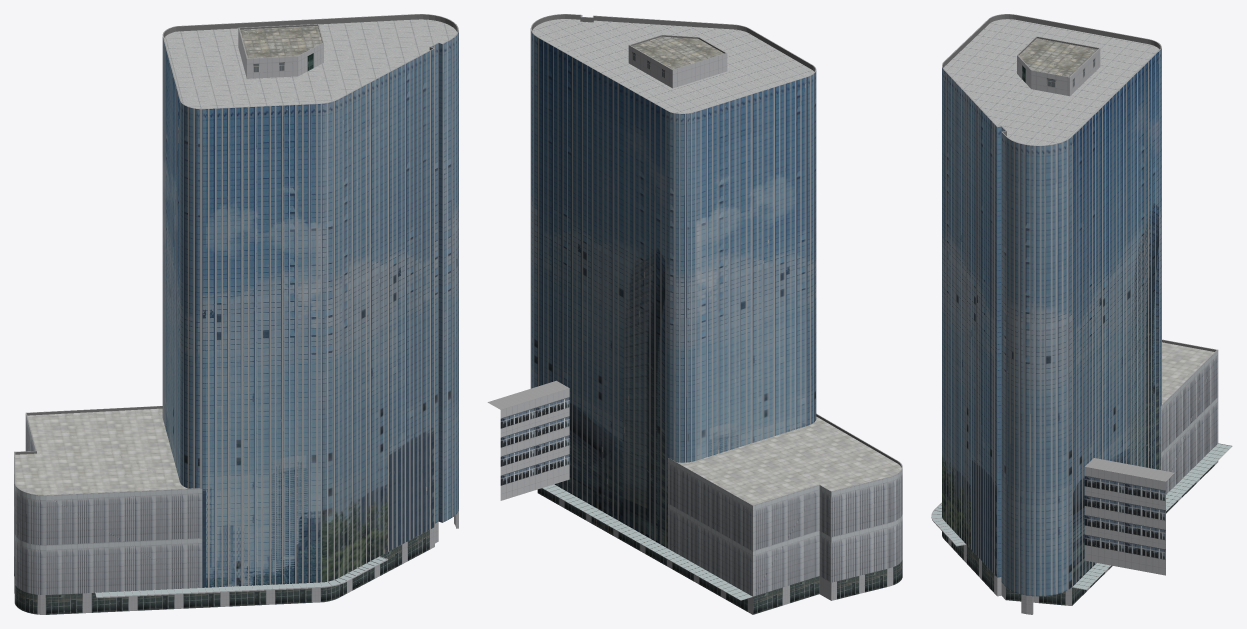
The model's file is chengyuan.gltf.
The picture shows the model from 3 angles, left to right: view 1: azimuth 30°, elevation 25°; view 2: azimuth 150°, elevation 25°; view 3: azimuth 270°, elevation 25°; orthographic projection. The views are drawn at different scales.
Visible parts, largest first — view 1: 33030201018JZ01500; view 2: 33030201018JZ01500; view 3: 33030201018JZ01500.
Part boxes in pixels (left/top/right/bottom): 33030201018JZ01500: left=14, top=14, right=458, bottom=614; 33030201018JZ01500: left=487, top=14, right=902, bottom=614; 33030201018JZ01500: left=931, top=14, right=1232, bottom=614.
Size of the model in its own units: 87.35 by 103 by 58.16.
18 materials, 18 textured.
